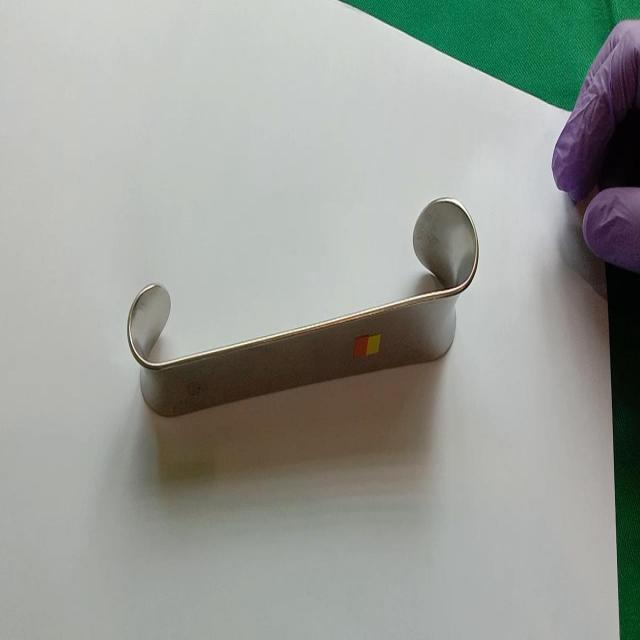CheekRetractor: (123, 194, 481, 418)
